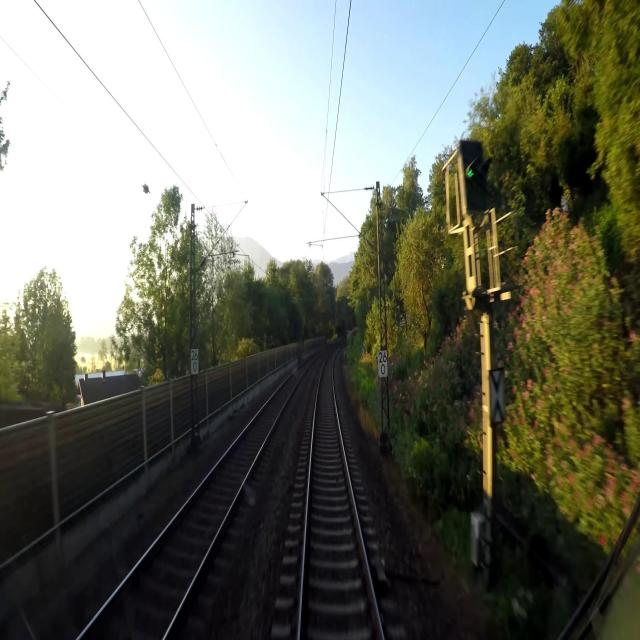rail-track: (82, 357, 313, 639), (302, 352, 380, 639)
